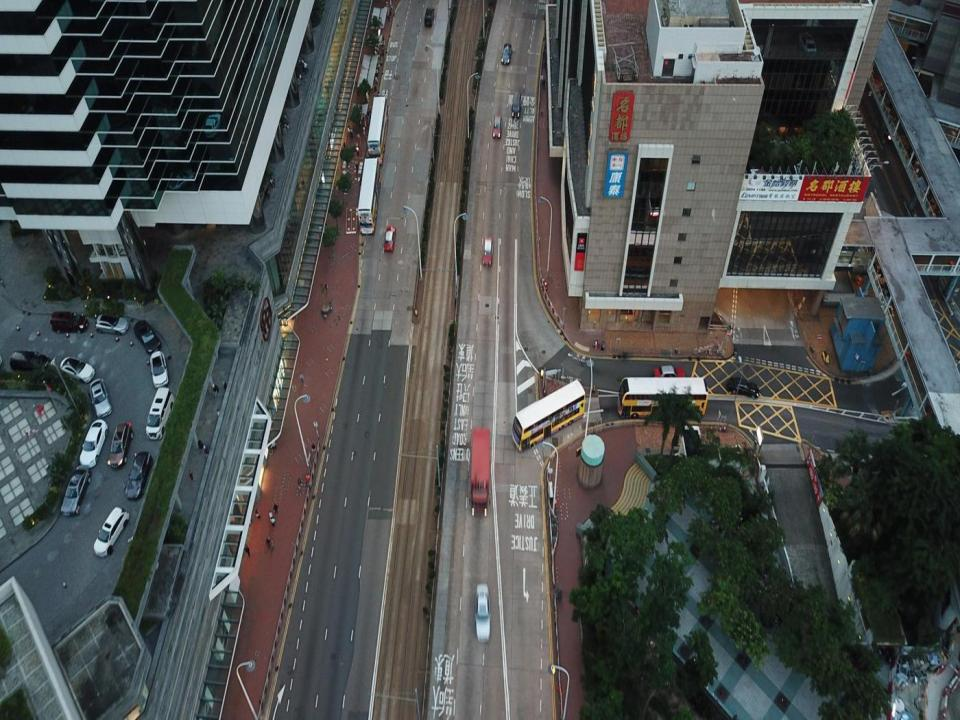bus: (511, 379, 585, 455), (616, 376, 708, 417), (358, 157, 381, 238), (366, 95, 390, 158)
car: (94, 507, 130, 557), (58, 463, 90, 516), (124, 450, 156, 499), (78, 417, 107, 466), (108, 422, 132, 472), (58, 356, 96, 384), (134, 318, 161, 356), (474, 582, 490, 643), (90, 378, 111, 421), (95, 312, 130, 336), (725, 374, 759, 398), (150, 350, 169, 388), (653, 365, 685, 384), (481, 236, 493, 268), (423, 6, 436, 31), (491, 114, 502, 143), (385, 224, 397, 249), (502, 42, 512, 64)
truck: (470, 428, 491, 520)
van: (145, 386, 175, 441), (10, 350, 51, 379), (51, 308, 89, 333), (512, 89, 522, 116)
